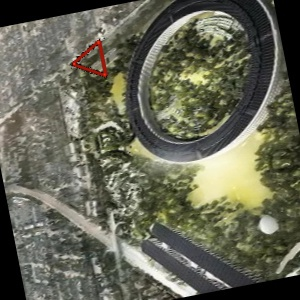triangle: (70, 37, 111, 80)
